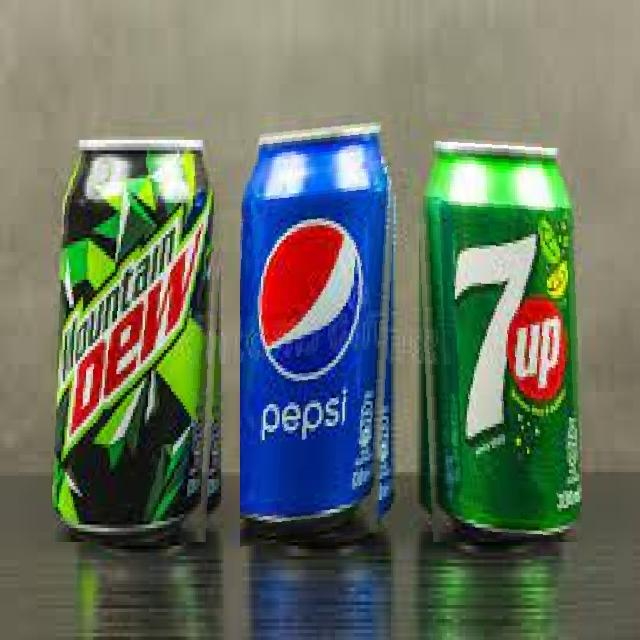Cans: (51, 108, 228, 542), (414, 115, 582, 542), (240, 115, 400, 549)
